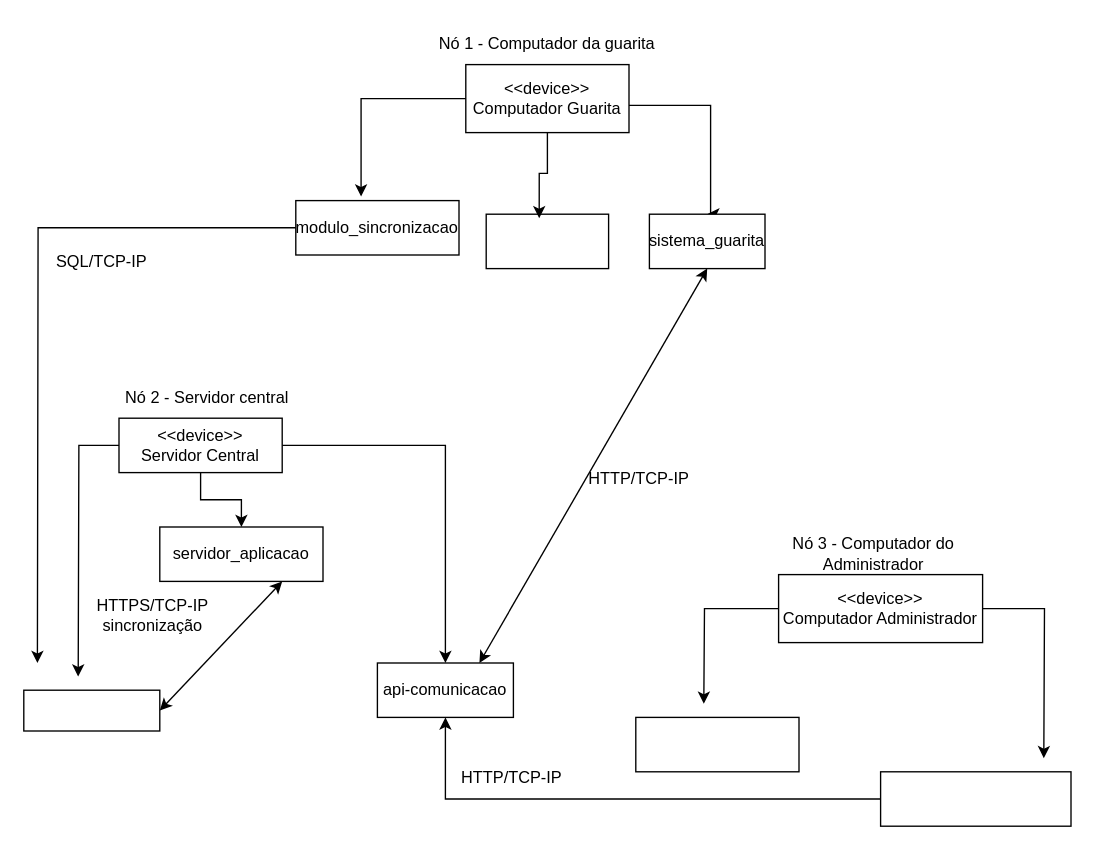
The diagram is 1095 pixels wide and 850 high, and some of its shapes have lost their labels. Each missing label, with the box of its shape:
banco_central: (22, 689, 160, 731)
banco_local: (485, 213, 609, 269)
Interface_administrativa: (879, 770, 1071, 826)
Navegador_web: (634, 716, 799, 772)
